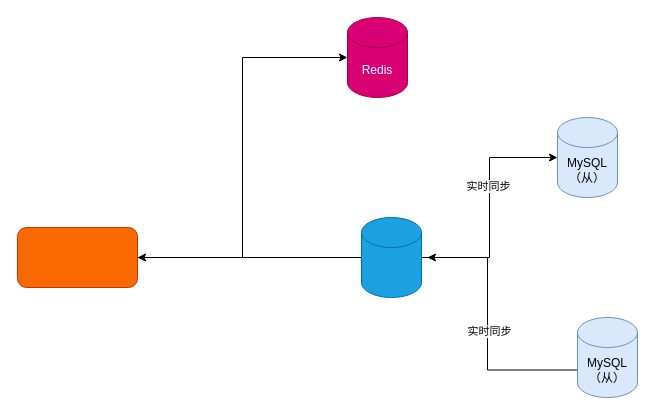
This 655x415 diagram has some shape labels left out. Here are the shapes that lost their labels. From the top down, the centre of each, then its label:
At [77,257]: "专业培训平台".
At [391,257]: "MySQL (主 )".
